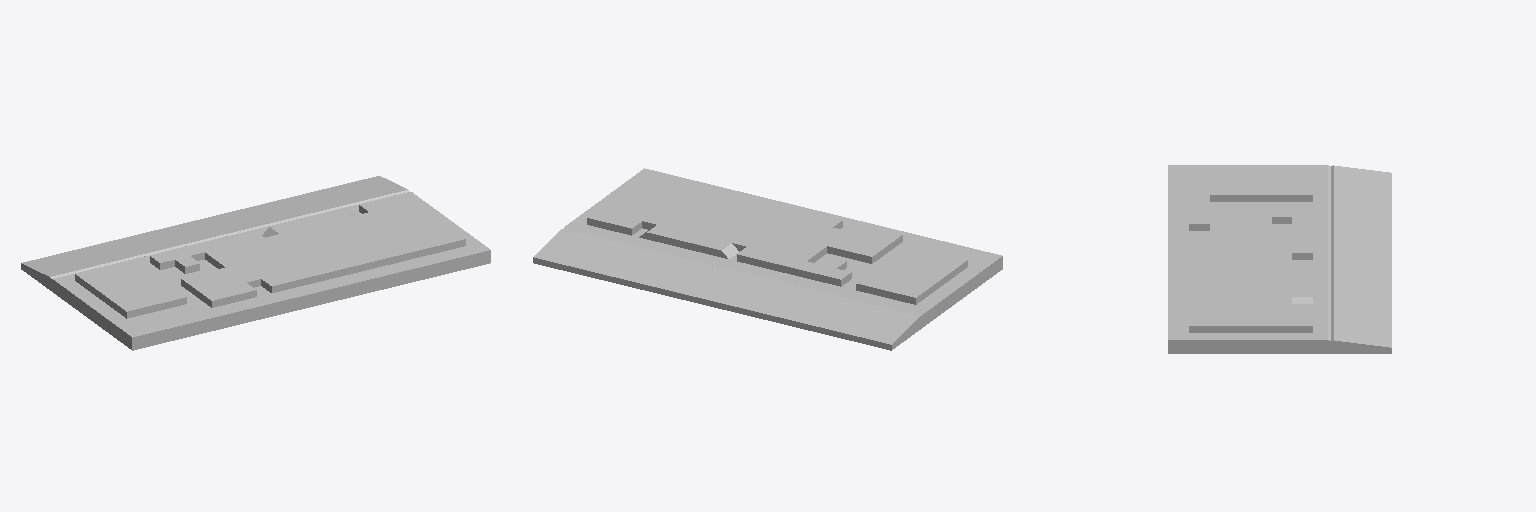
The model's file is keyboard.obj.
The picture shows the model from 3 angles: view 1: azimuth 30°, elevation 25°; view 2: azimuth 150°, elevation 25°; view 3: azimuth 270°, elevation 25°; orthographic projection.
Visible parts, largest first — view 1: Cube.004; view 2: Cube.004; view 3: Cube.004.
Boxes of the visible parts, x1=… form: Cube.004: x1=21, y1=176, x2=490, y2=350; Cube.004: x1=533, y1=168, x2=1002, y2=350; Cube.004: x1=1168, y1=165, x2=1391, y2=353.
Size of the model in its own units: 0.8723 by 0.0471 by 0.4704.